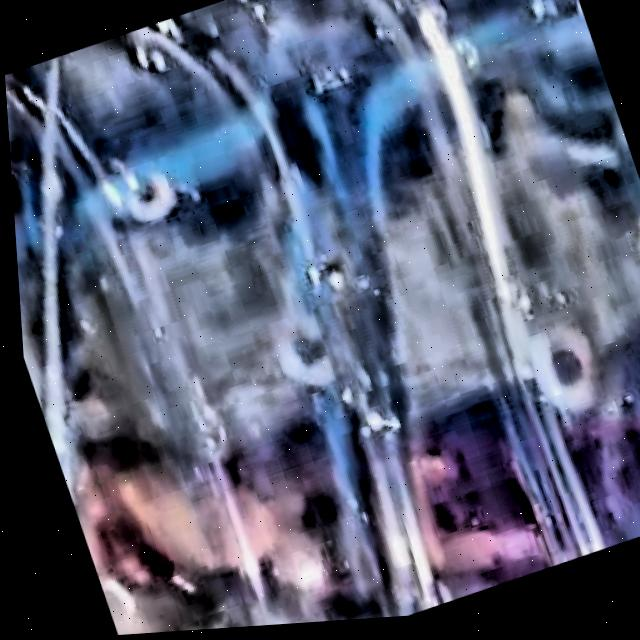plastic: (4, 0, 640, 636)
